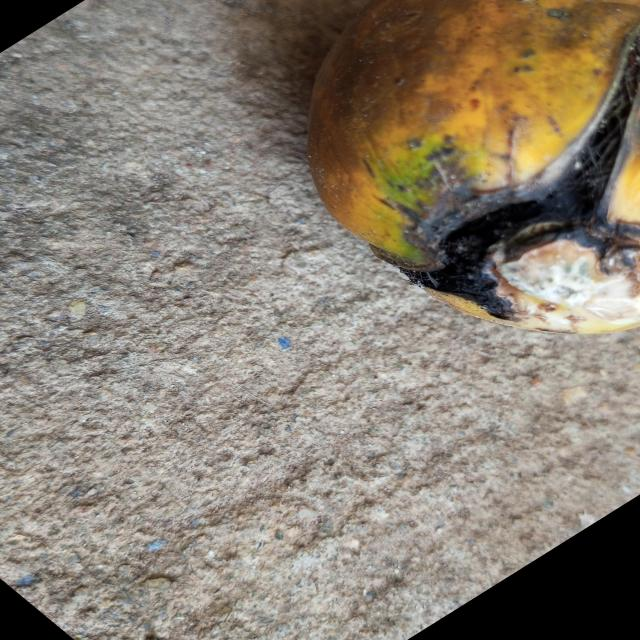damaged: (308, 0, 640, 334)
